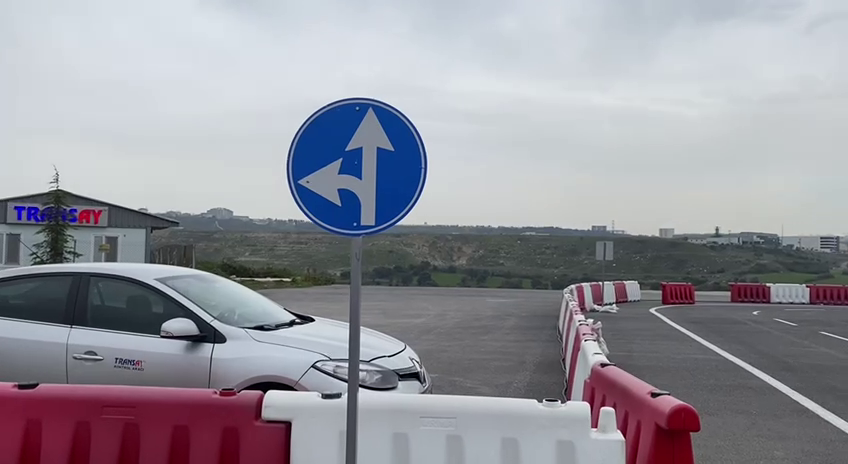forwardAndLeft: (281, 93, 432, 239)
